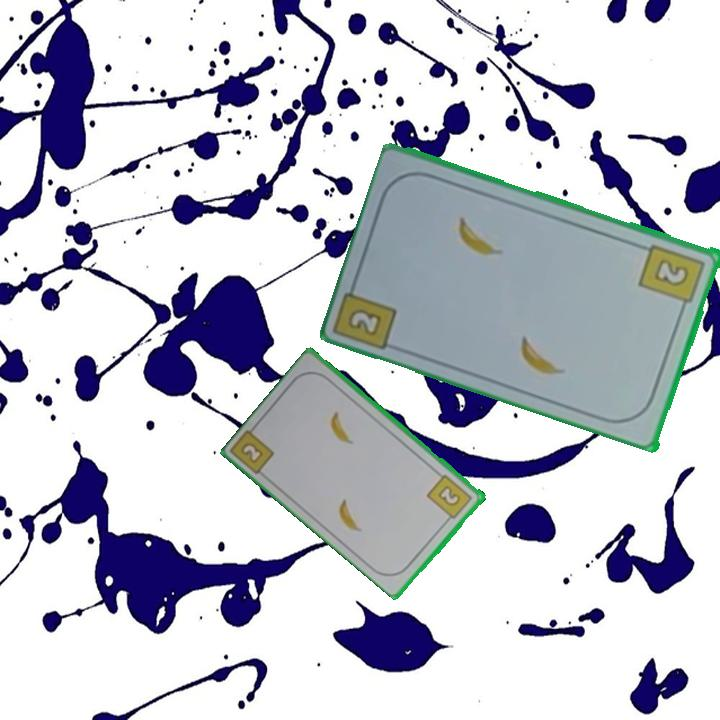2b: (636, 240, 708, 314), (424, 471, 476, 525), (344, 305, 386, 339), (238, 439, 267, 466)
